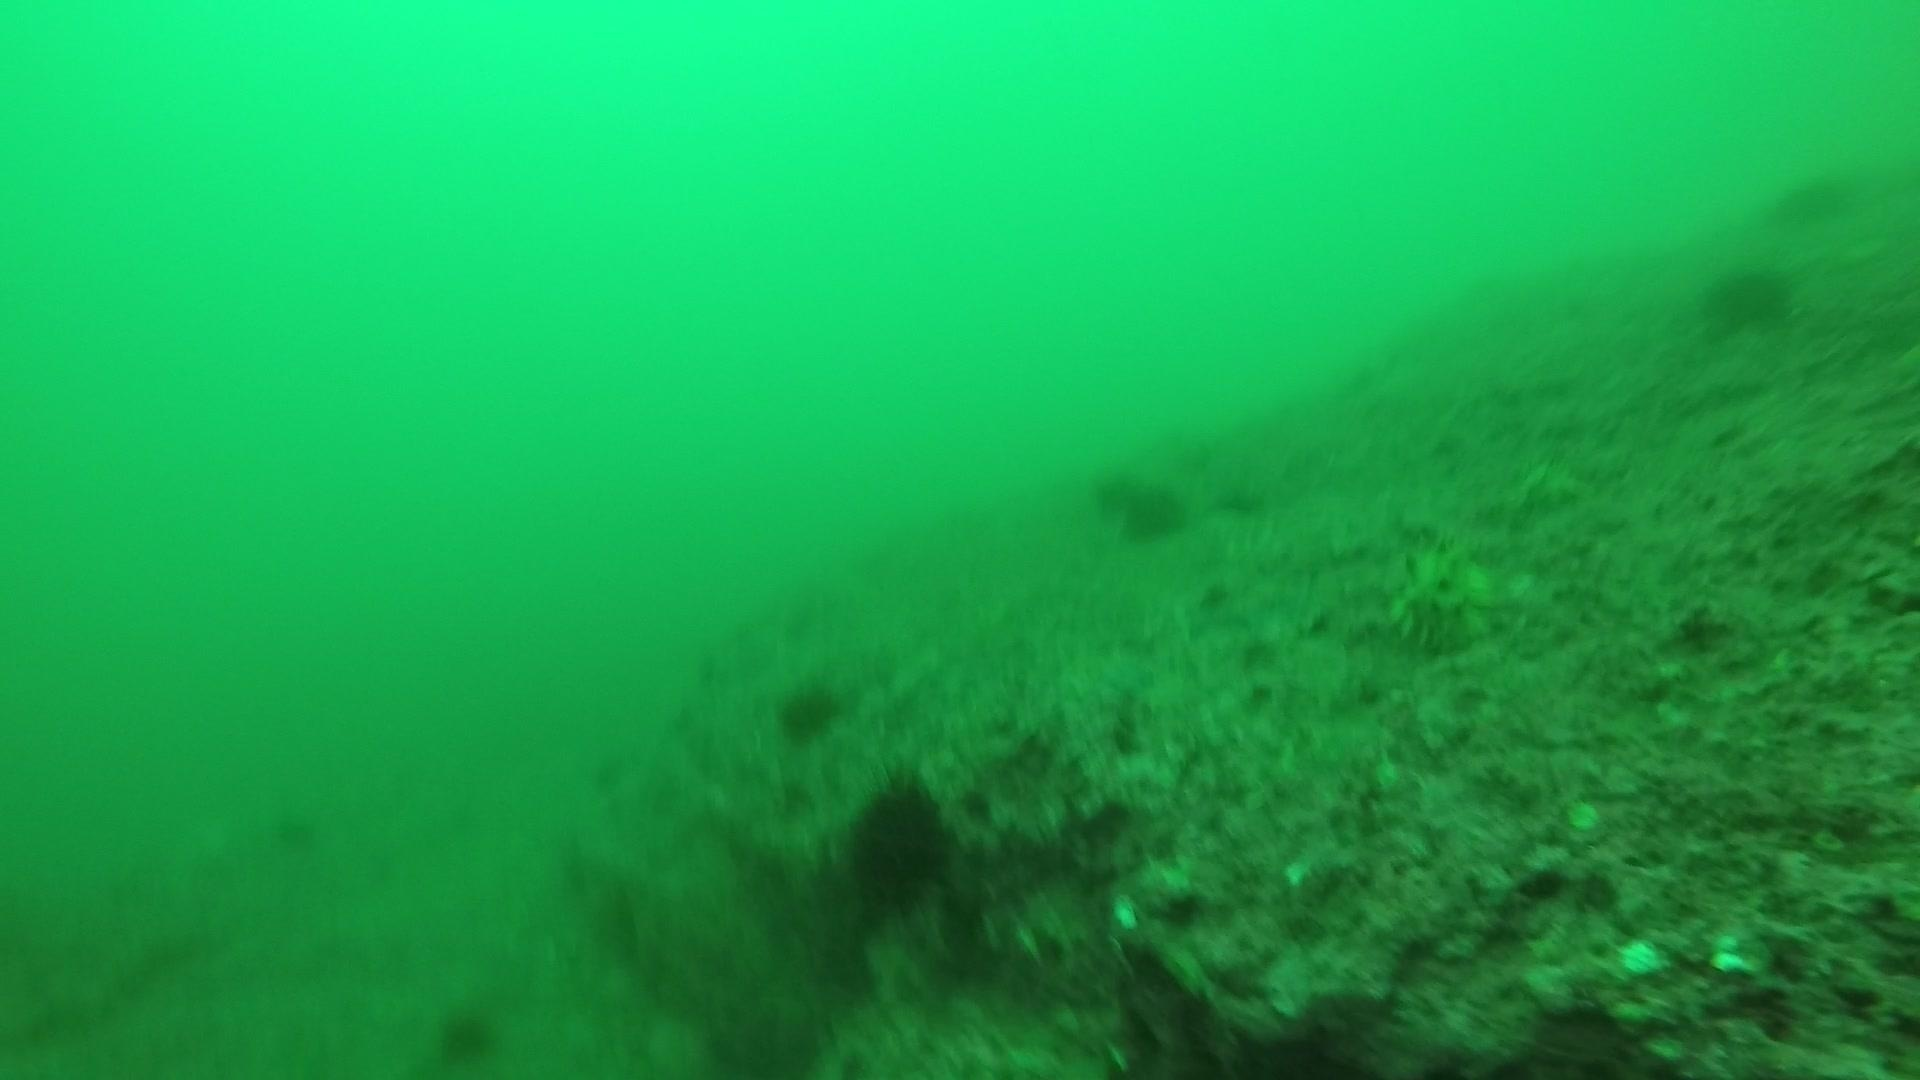echinus: (840, 771, 957, 909), (1698, 257, 1797, 336), (1768, 164, 1859, 229), (771, 674, 847, 746), (430, 1002, 502, 1065), (1120, 488, 1189, 545), (1076, 458, 1146, 514), (1207, 472, 1276, 527)
holothurian: (1378, 533, 1497, 658)
